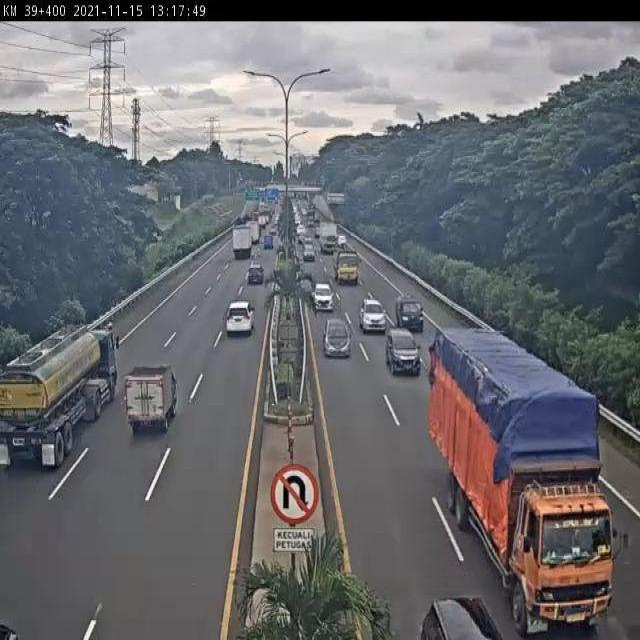car: (387, 328, 422, 377), (322, 317, 351, 359), (360, 296, 388, 335), (225, 299, 256, 333), (312, 281, 335, 312), (246, 262, 266, 286)
truck-l-: (431, 325, 630, 639)
truck-m-: (331, 246, 362, 286)
truck-s-: (124, 363, 178, 432), (394, 295, 426, 333)
truck-xl-: (0, 319, 120, 468)
